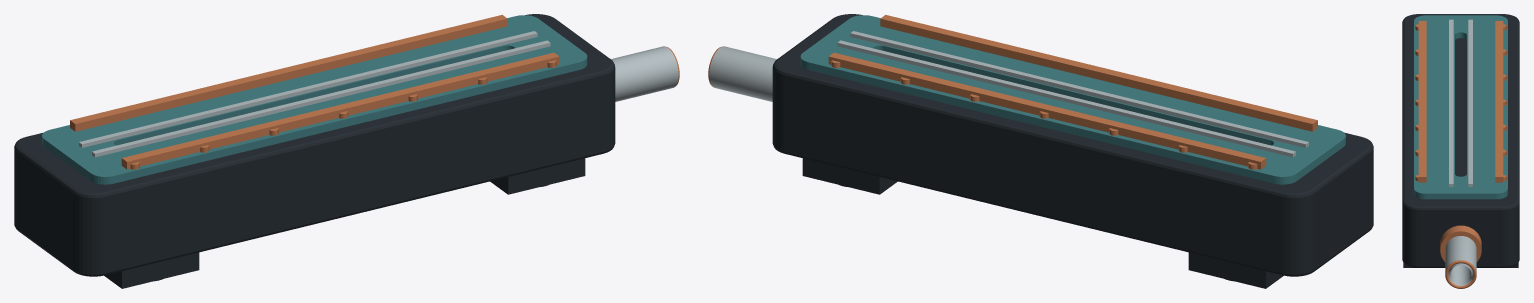
File: linear-ribbonrail.glb
The picture shows the model from 3 angles, left to right: view 1: azimuth 30°, elevation 25°; view 2: azimuth 150°, elevation 25°; view 3: azimuth 270°, elevation 25°; orthographic projection. The views are drawn at different scales.
Parts seen in each view (by area): view 1: Long plenum housing, Slotted ceramic emitter deck — continuous open ribbon, Left deck shoulder, Right deck shoulder, Left slot wear rail, Right slot wear rail, Open supply socket, Foot 3, Foot 4; view 2: Long plenum housing, Slotted ceramic emitter deck — continuous open ribbon, Right deck shoulder, Left deck shoulder, Left slot wear rail, Right slot wear rail, Open supply socket, Foot 1, Foot 2; view 3: Long plenum housing, Slotted ceramic emitter deck — continuous open ribbon, Left deck shoulder, Right deck shoulder, Open supply socket, Left slot wear rail, Right slot wear rail, Inlet boss, Socket rim.
Part boxes in pixels (box(x1,y1,x2,y2)): Long plenum housing: box(14, 14, 615, 276); Slotted ceramic emitter deck — continuous open ribbon: box(42, 15, 587, 184); Left deck shoulder: box(70, 14, 507, 131); Right deck shoulder: box(121, 52, 559, 169); Left slot wear rail: box(79, 31, 537, 147); Right slot wear rail: box(92, 40, 550, 157); Open supply socket: box(611, 46, 678, 101); Foot 3: box(104, 252, 199, 288); Foot 4: box(490, 158, 585, 194); Long plenum housing: box(772, 14, 1373, 276); Slotted ceramic emitter deck — continuous open ribbon: box(800, 15, 1345, 184); Right deck shoulder: box(880, 14, 1317, 131); Left deck shoulder: box(828, 52, 1266, 169); Left slot wear rail: box(837, 40, 1295, 157); Right slot wear rail: box(850, 31, 1308, 147); Open supply socket: box(709, 46, 776, 101); Foot 1: box(1188, 252, 1283, 288); Foot 2: box(802, 158, 897, 194); Long plenum housing: box(1402, 14, 1519, 267); Slotted ceramic emitter deck — continuous open ribbon: box(1414, 15, 1507, 199); Left deck shoulder: box(1495, 21, 1503, 182); Right deck shoulder: box(1418, 21, 1426, 182); Open supply socket: box(1445, 236, 1476, 285); Left slot wear rail: box(1468, 19, 1472, 186); Right slot wear rail: box(1449, 19, 1453, 186); Inlet boss: box(1440, 225, 1481, 261); Socket rim: box(1445, 260, 1476, 288).
Size of the model in its own units: 1.62 by 0.291 by 0.356.
